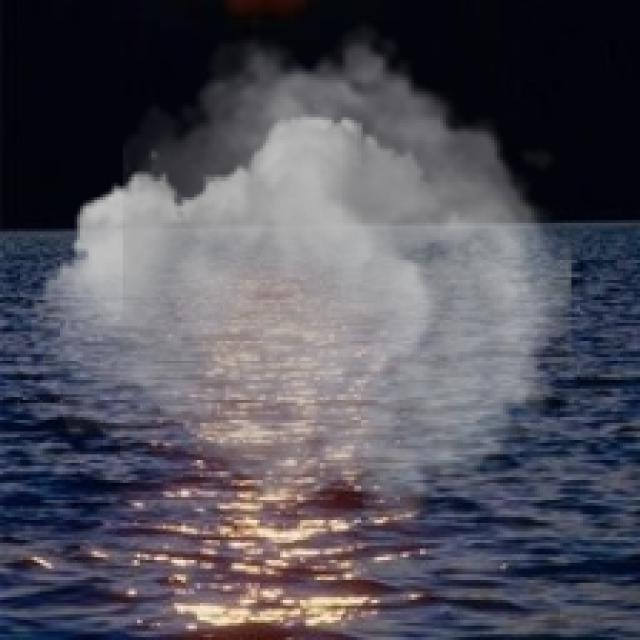smoke: (31, 20, 572, 537)
